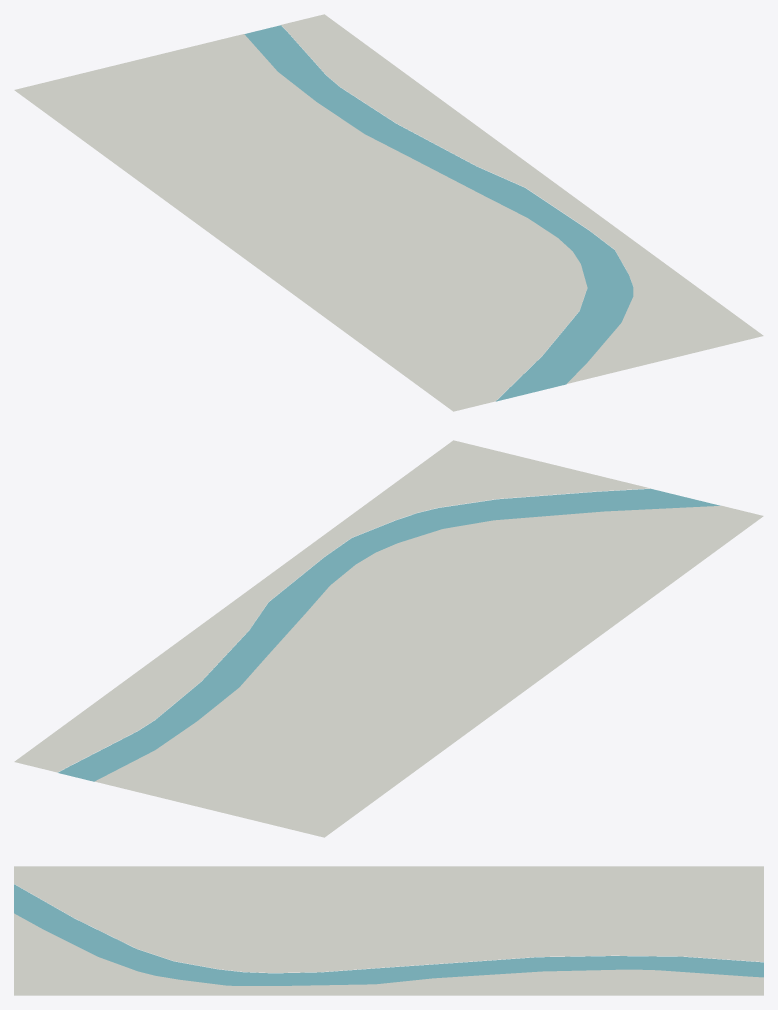
The picture shows the model from 3 angles, top to bottom: view 1: azimuth 30°, elevation 25°; view 2: azimuth 150°, elevation 25°; view 3: azimuth 270°, elevation 25°; orthographic projection. The views are drawn at different scales.
Parts seen in each view (by area): view 1: city; view 2: city; view 3: city.
Boxes of the visible parts, x1,y1,x2,y2 form: city: (14, 14, 763, 411); city: (14, 440, 763, 837); city: (14, 866, 763, 995).
Size of the model in its own units: 204 by 0.18 by 500.
